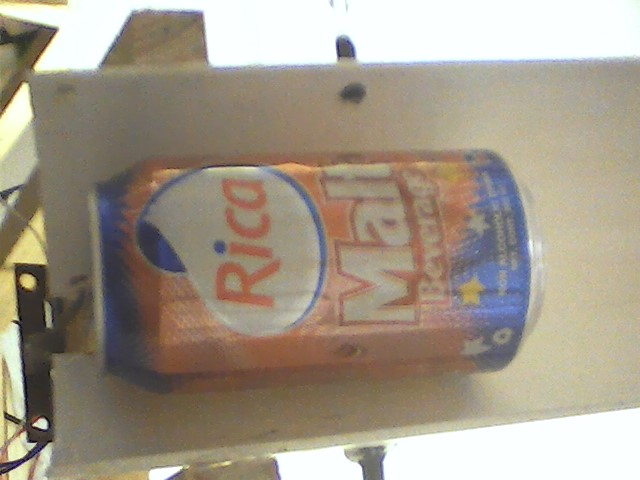lata: (87, 145, 548, 400)
